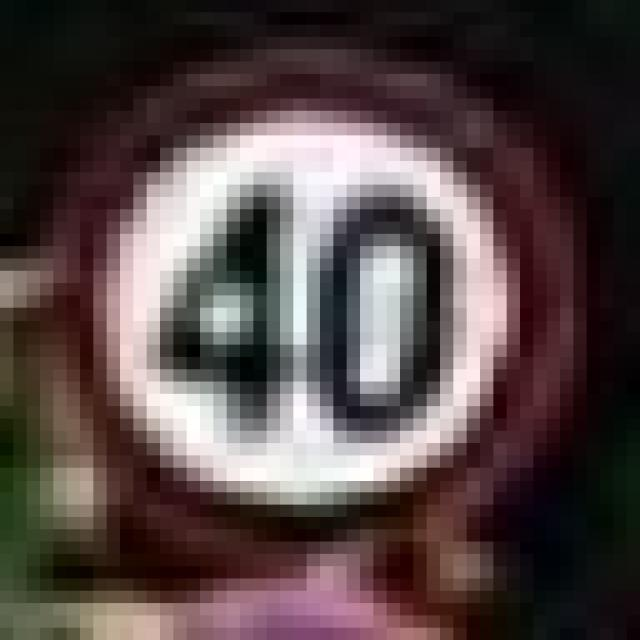Speed Limit -40-: (149, 170, 472, 445)
